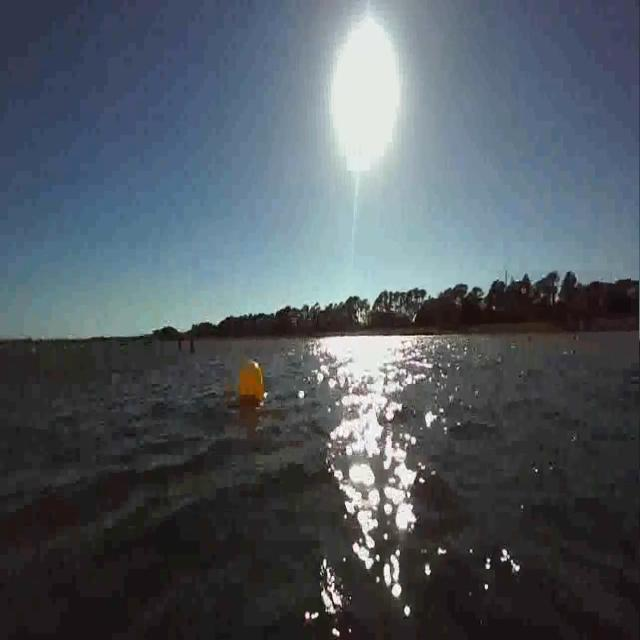yellow-buoy: (239, 360, 266, 402)
